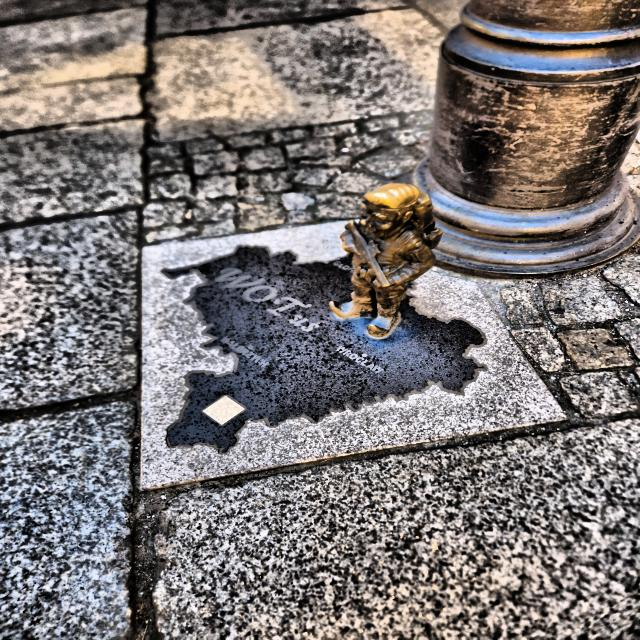WOTus: (330, 182, 442, 339)
